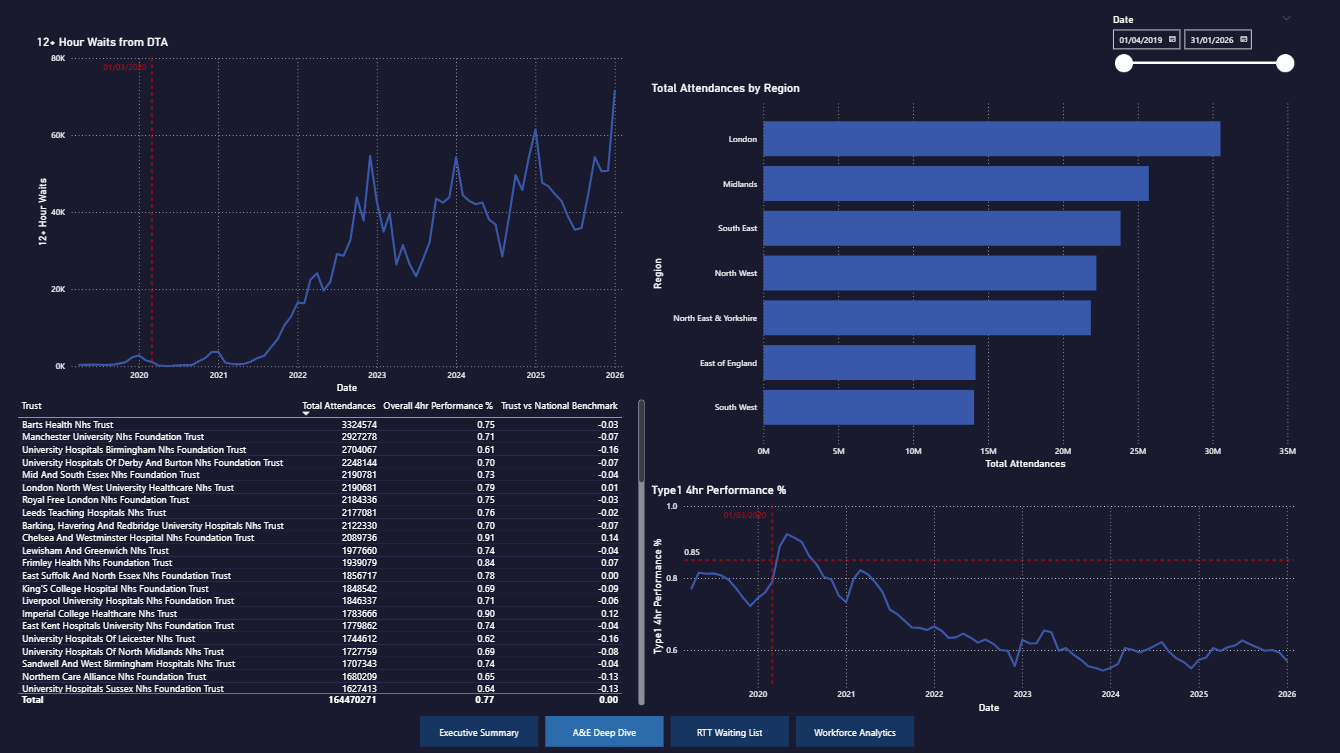

This screenshot's page, from the dashboard's own definition file:
{"tool":"powerbi","page":{"name":"A&E Deep Dive","canvas":[1920,1080],"ordinal":1},"visuals":[{"type":"lineChart","title":"Type1 4hr Performance % ","fields":{"Y":["_Measures.Type1 4hr Performance %"],"Category":["dim_date.Date"]},"box":[932,689.3,930.7,333.3],"z":0},{"type":"clusteredBarChart","title":"Total Attendances by Region","fields":{"Y":["_Measures.Total Attendances"],"Category":["ae_clean.clean_region"]},"box":[932,116,930.7,560],"z":1000},{"type":"tableEx","fields":{"Values":["ae_clean.org_name","_Measures.Total Attendances","_Measures.Overall 4hr Performance %","_Measures.Trust vs National Benchmark"]},"box":[25.7,565.7,905.7,447.1],"z":2000},{"type":"lineChart","title":"12+ Hour Waits from DTA","fields":{"Category":["dim_date.Date"],"Y":["Sum(ae_clean.wait_12hr_plus)"]},"box":[52.5,49.6,849.1,516.5],"z":3000},{"type":"slicer","fields":{"Values":["dim_date.Date"]},"box":[1582.7,14.7,280,162.7],"z":4000},{"type":"pageNavigator","box":[605.3,1022.7,709.3,44],"z":5000}]}

Visuals, with their boxes in screenshot pixels (x1, y1, x2, y2), scaled from the page's 1920x1080 canvas onto the 1340x753 screenshot:
"Type1 4hr Performance % " lineChart: [650, 481, 1300, 713]
"Total Attendances by Region" clusteredBarChart: [650, 81, 1300, 471]
tableEx - ae_clean.org_name x _Measures.Total Attendances: [18, 394, 650, 706]
"12+ Hour Waits from DTA" lineChart: [37, 35, 629, 395]
slicer - dim_date.Date: [1105, 10, 1300, 124]
pageNavigator: [422, 713, 917, 744]
